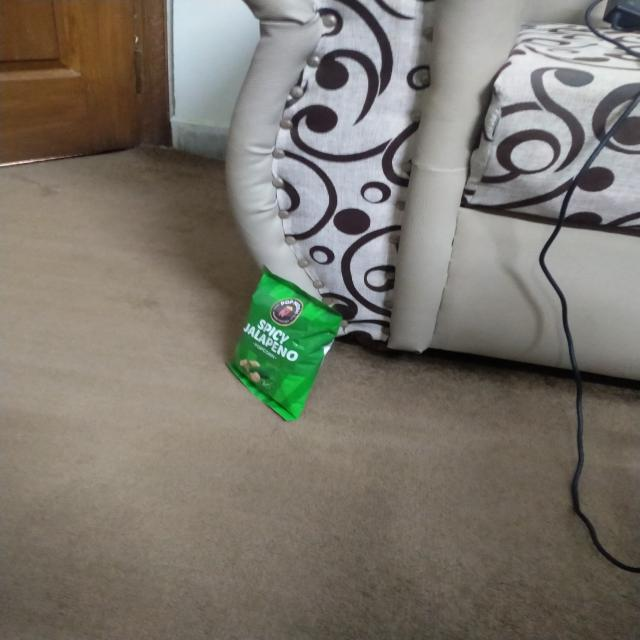Plastic: (220, 280, 343, 416)
